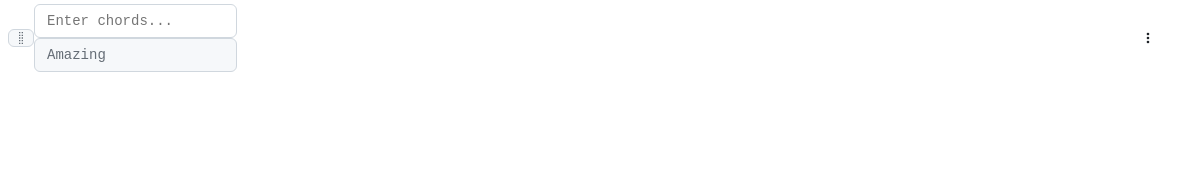
Test: ChordSheetRow kebab menu › Clear chord button disabled when row has no chord
What coordinates should you click on to do the following:
click the button named "Row actions"
I would click on:
 (1148, 38)
Its box is left=1136, top=26, right=1160, bottom=50.
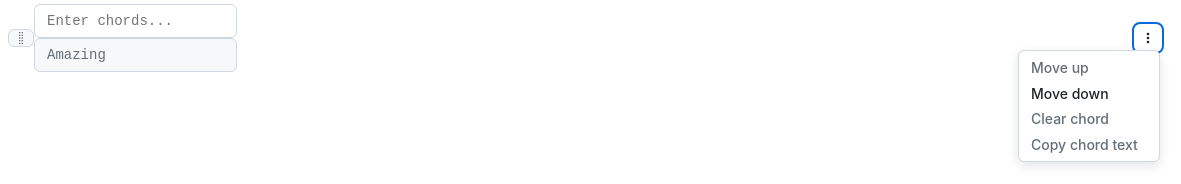
Expected: the menu item "Clear chord" is disabled, left=1019, top=106, right=1159, bottom=132
